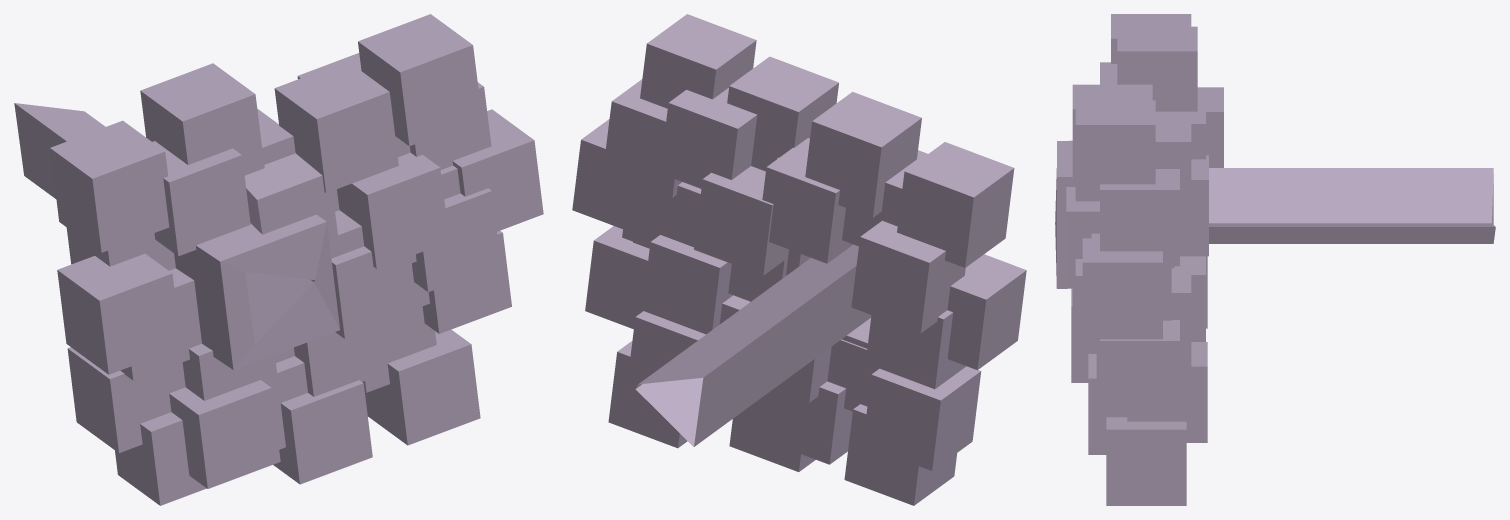
The model's file is scene1_portal.fbx.
3 views of the same model, side by side, from view 1: azimuth 30°, elevation 25°; view 2: azimuth 150°, elevation 25°; view 3: azimuth 270°, elevation 25° (orthographic). The views are drawn at different scales.
Visible parts, largest first — view 1: play; view 2: play; view 3: play.
Part boxes in pixels (x1,y1,x2,y2): play: (14, 14, 543, 505); play: (572, 14, 1026, 505); play: (1055, 14, 1495, 505).
Size of the model in its own units: 67.29 by 59.16 by 61.81.
